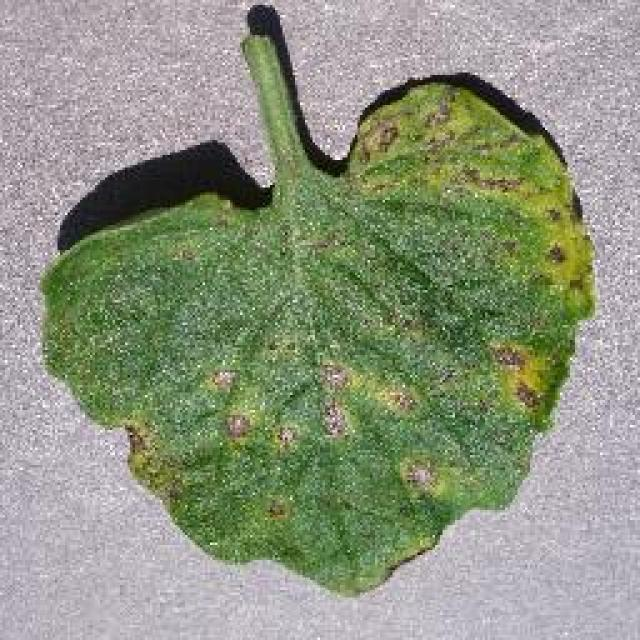Tomato___Septoria_leaf_spot: (42, 35, 592, 592)
